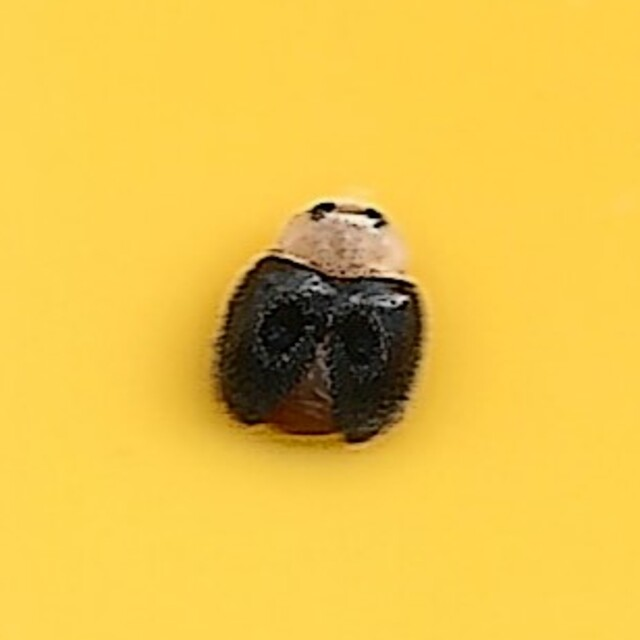Coleoptera: (208, 192, 432, 448)
